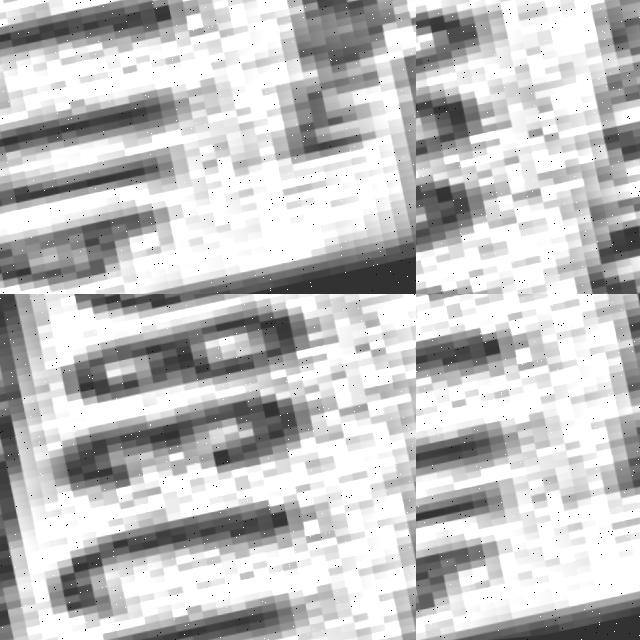license-plate: (0, 294, 416, 640), (0, 0, 416, 294), (416, 294, 640, 640), (416, 0, 640, 294)
